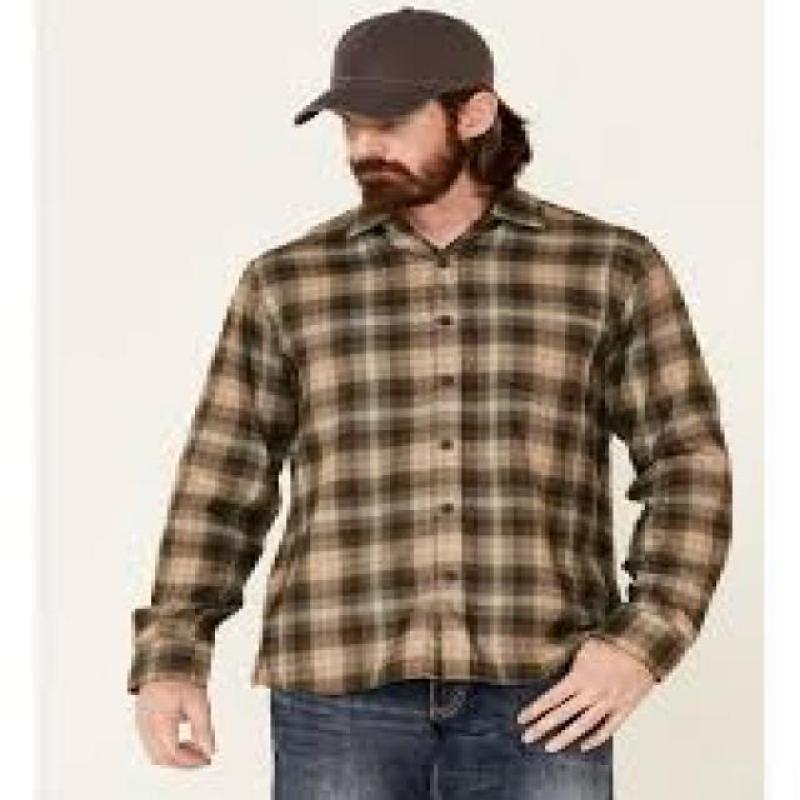long sleeve shirt: (124, 190, 733, 695)
trousers: (267, 683, 616, 800)
